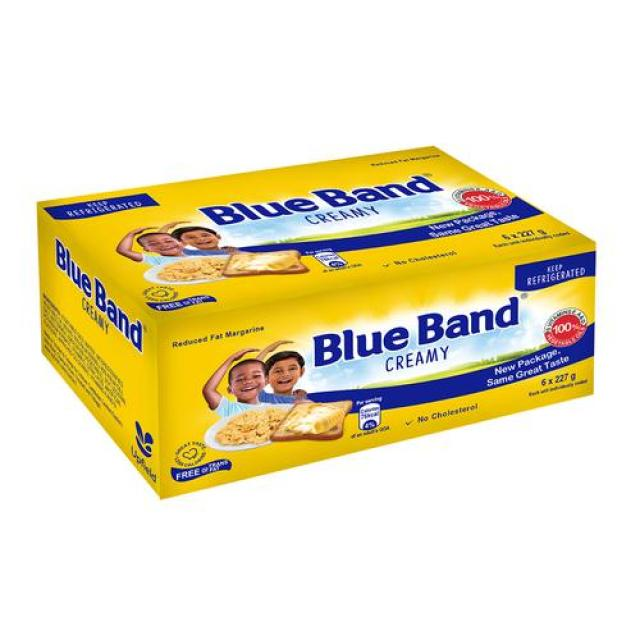butter: (36, 143, 598, 500)
